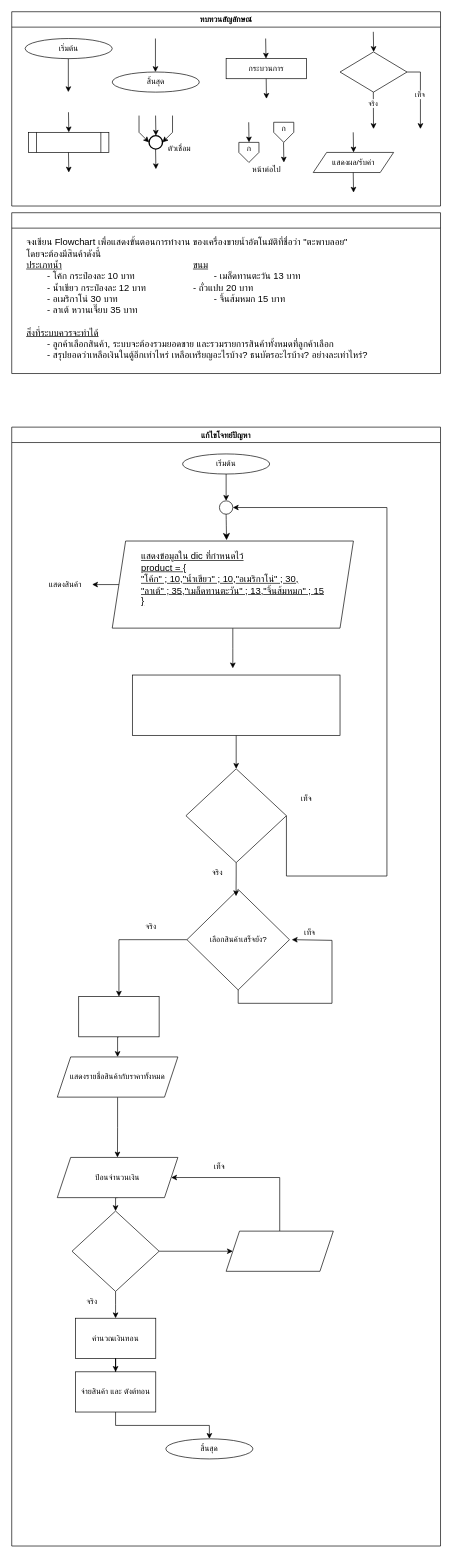
The diagram is 452 pixels wide and 1558 high, and some of its shapes have lost their labels. The box of each missing label's shape, as (x1, y1, x2, y2) in pixels:
นำข้อมูลราคากับสินค้าเข้าในตัวแปร รวมสินค้าและราคาทั้งหมด: (78, 996, 159, 1037)
ประโยคเงื่อนไข: (339, 51, 407, 92)
ฟังก์ชัน/โมดูล: (28, 132, 109, 152)
ลูกค้าเลือกของ: (132, 674, 340, 735)
ลูกค้าเลือกของมั้ย: (185, 768, 286, 863)
เงินพอไหม: (71, 1210, 159, 1291)
แสดงยอดเงินที่คงค้าง: (225, 1230, 333, 1271)
โจทย์ปัญหา: (11, 212, 441, 374)
